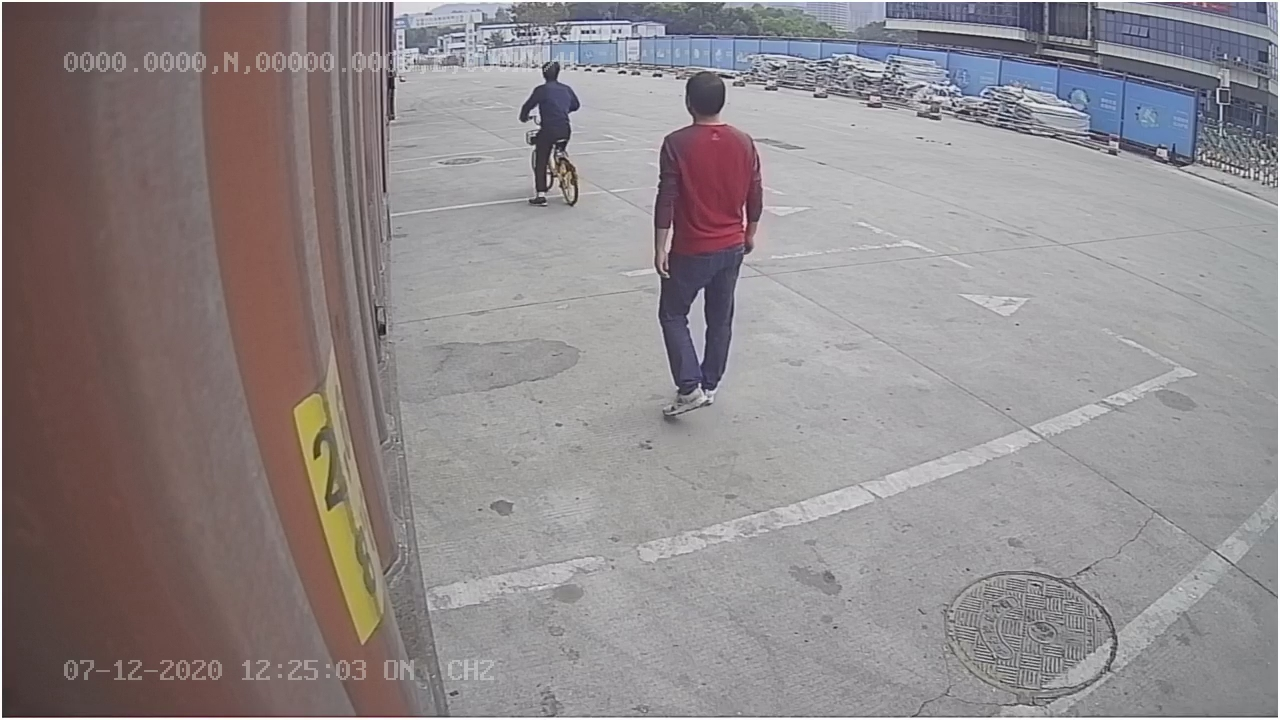person: (640, 67, 770, 428)
